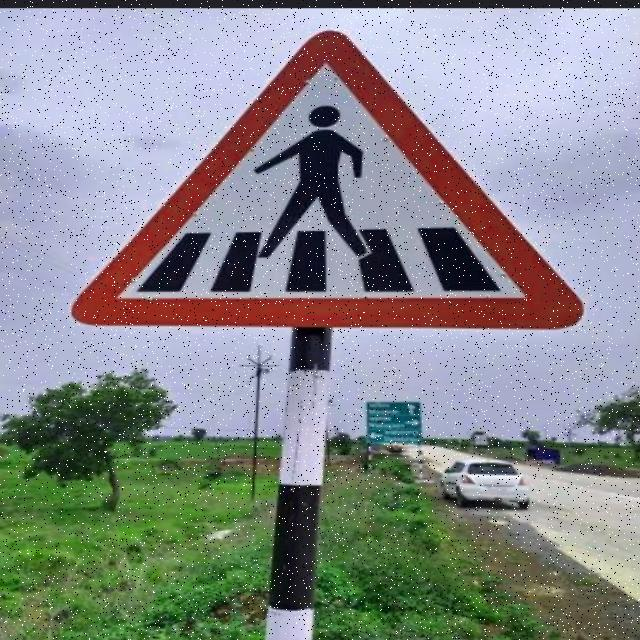Pedestrain_crossing: (69, 34, 585, 330)
